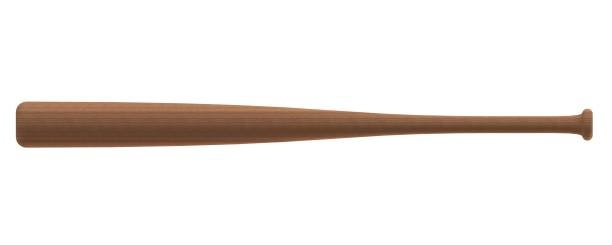bita: (11, 102, 587, 156)
